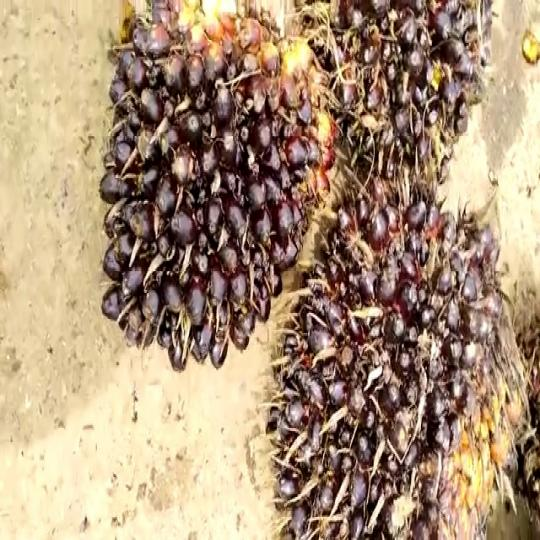mentah: (98, 0, 334, 384), (272, 181, 512, 536), (303, 0, 492, 202)
